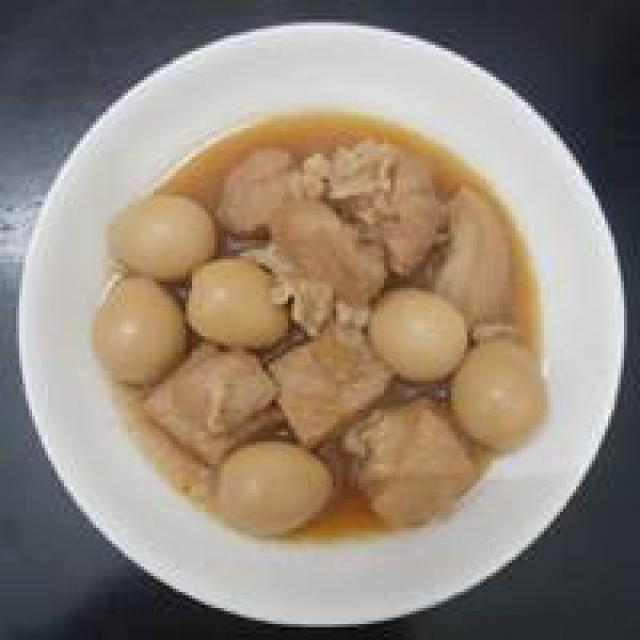thit_kho_trung: (168, 180, 511, 494)
